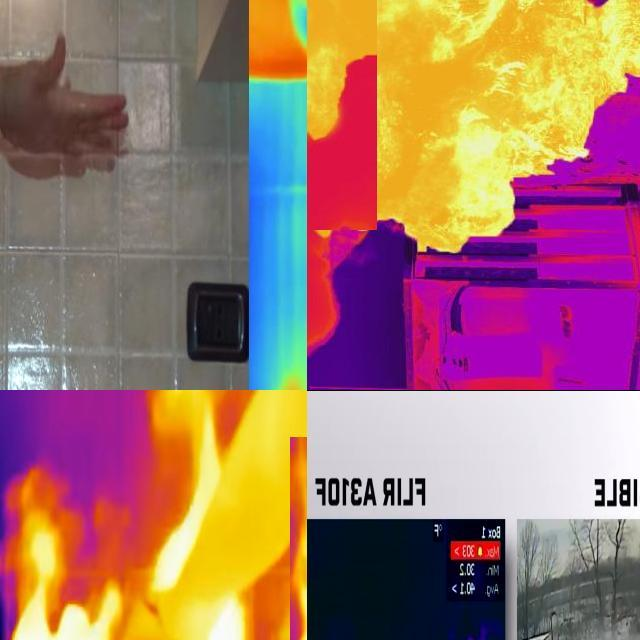fire: (392, 2, 640, 251), (2, 533, 127, 640), (146, 491, 219, 600), (202, 596, 263, 640)
